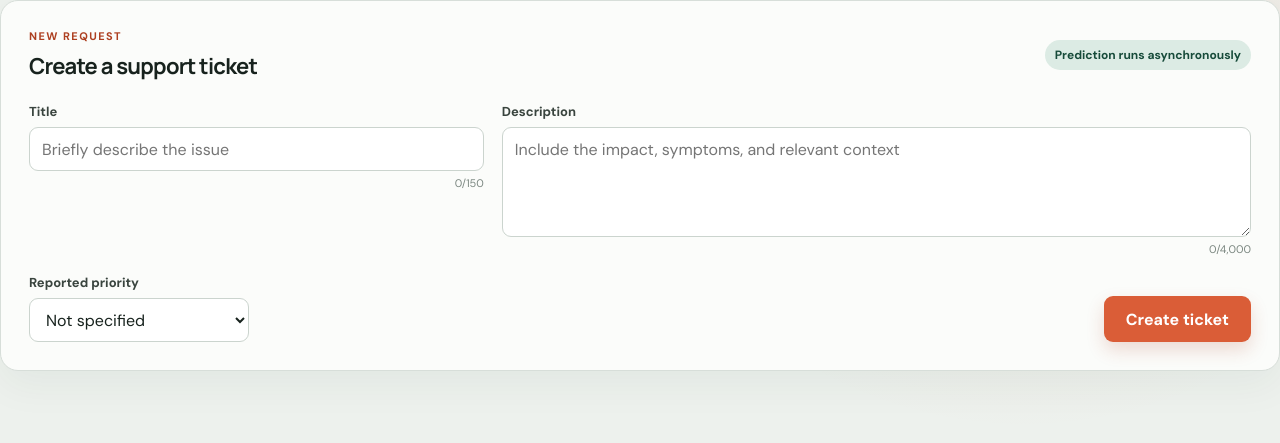
Scenario: renders a server error without clearing the entered request
Type "VPN access fails" into the field labelled "Title" at coordinates (256, 149), box [29,127,484,171]
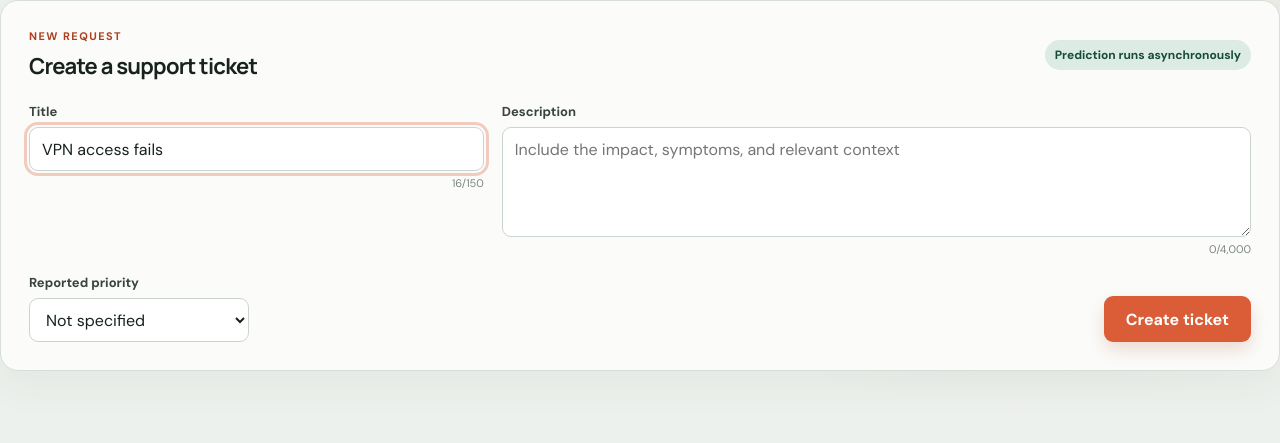
Type "The employee cannot connect to the corporate VPN." into the text box labelled "Description" at coordinates (876, 182), box [502,127,1251,237]
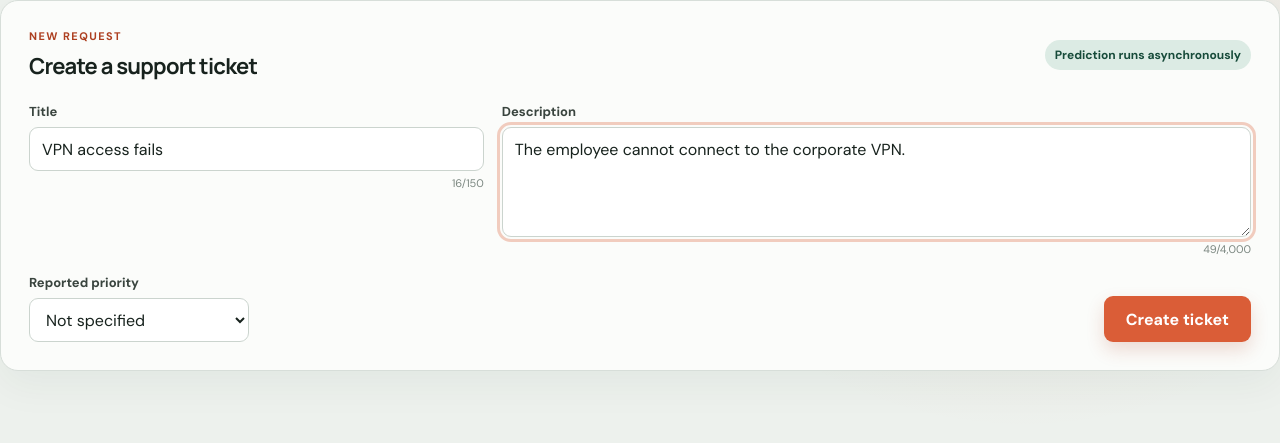
Click the button "Create ticket" at coordinates (1177, 319), box [1104,296,1251,342]
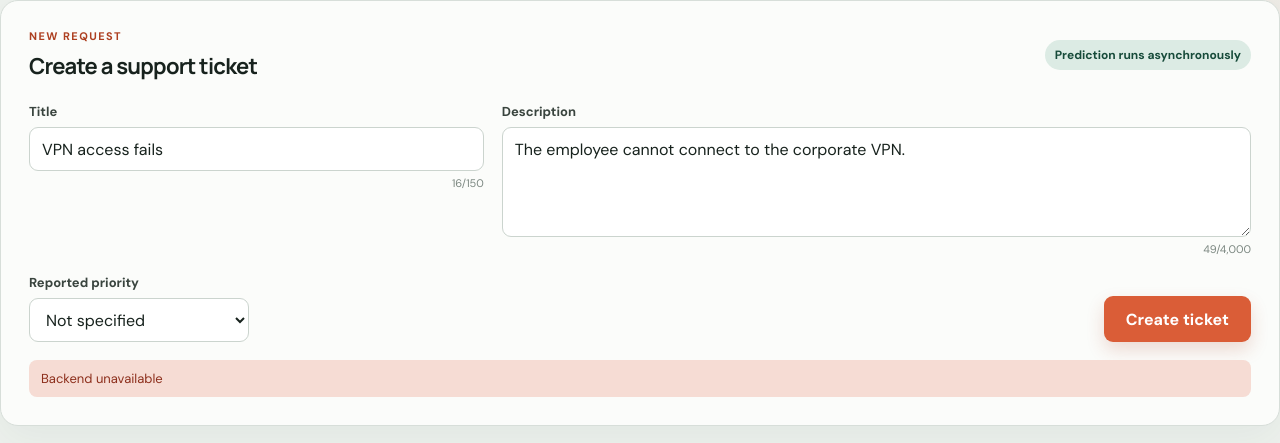
Now the message reads "Backend unavailable", box [41,370,163,387]
